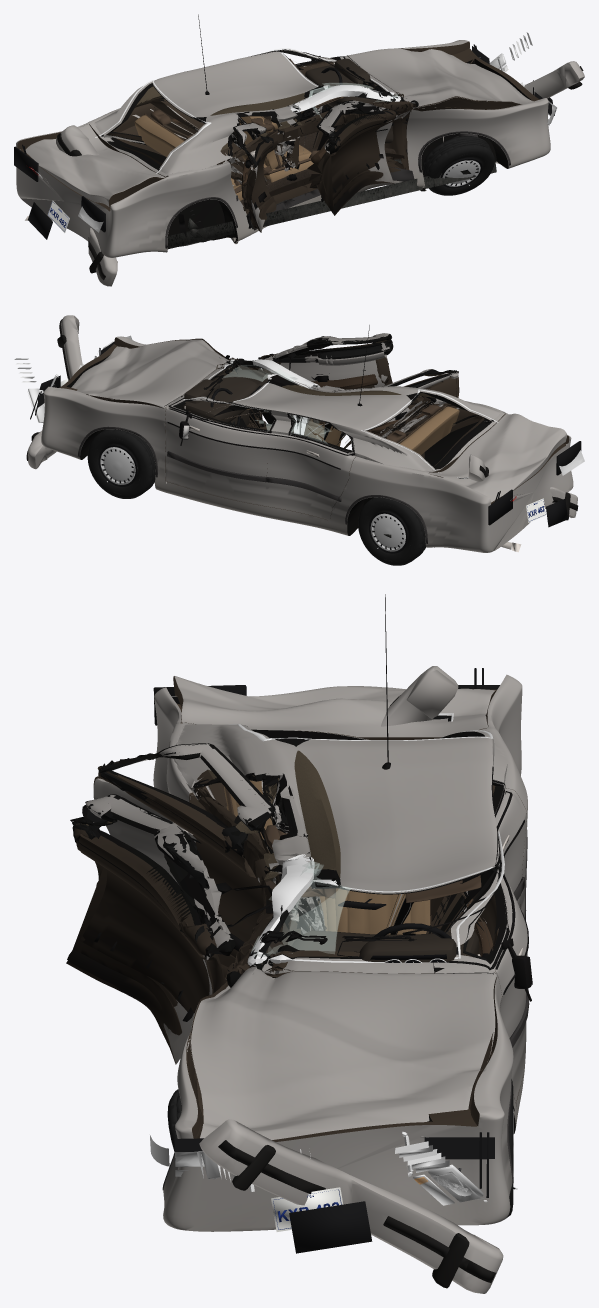
The model's file is sedan87_side_R_d3_lod1.glb.
3 views of the same model, one above another, from view 1: azimuth 30°, elevation 25°; view 2: azimuth 150°, elevation 25°; view 3: azimuth 270°, elevation 25° (orthographic). The views are drawn at different scales.
Parts seen in each view (by area): view 1: Body, Hood, Door_FR, Trunk, Interior, Underbody, Wheel_FR_mesh, Ends, Glass, Door_RR, Bumper_R, Trim (+4 smaller); view 2: Body, Door_FL, Hood, Trunk, Door_RL, Interior, Door_FR, Wheel_FL_mesh, Wheel_RL_mesh, Ends, Glass, Bumper_F (+8 smaller); view 3: Body, Hood, Door_FR, Bumper_F, Door_RR, Trunk, Ends, Interior, Glass, Door_FL, Trim_FL, Bumper_R (+4 smaller).
Boxes of the visible parts, x1,y1,x2,y2 form: Body: (16, 40, 550, 257); Hood: (346, 48, 533, 109); Door_FR: (307, 100, 397, 215); Trunk: (25, 124, 164, 207); Interior: (134, 58, 393, 200); Underbody: (25, 134, 496, 249); Wheel_FR_mesh: (423, 136, 494, 195); Ends: (14, 32, 556, 239); Glass: (95, 48, 400, 173); Door_RR: (233, 122, 277, 232); Bumper_R: (56, 125, 117, 286); Trim: (165, 14, 510, 248); Body: (41, 336, 573, 552); Door_FL: (165, 395, 276, 505); Hood: (71, 338, 229, 408); Trunk: (429, 413, 566, 502); Door_RL: (263, 412, 356, 520); Interior: (182, 364, 459, 454); Door_FR: (258, 333, 393, 387); Wheel_FL_mesh: (87, 429, 155, 498); Wheel_RL_mesh: (358, 497, 425, 565); Ends: (14, 335, 584, 527); Glass: (183, 359, 498, 478); Bumper_F: (26, 315, 82, 469); Body: (153, 674, 527, 1231); Hood: (190, 966, 497, 1139); Door_FR: (66, 794, 235, 1064); Bumper_F: (199, 1119, 503, 1293); Door_RR: (93, 743, 275, 982); Trunk: (173, 676, 496, 740); Ends: (150, 668, 499, 1253); Interior: (224, 778, 481, 967); Glass: (229, 713, 504, 966); Door_FL: (434, 835, 527, 1103); Trim_FL: (337, 826, 532, 1047); Bumper_R: (381, 666, 458, 726).
Size of the model in its own units: 5.18 by 1.96 by 2.01.
Materials: 33 (5 with a texture image).
